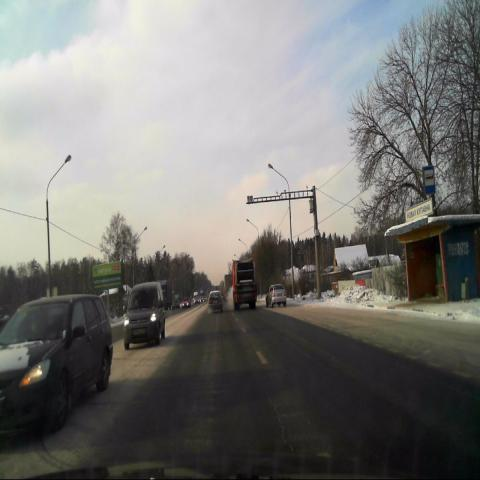5_16: (423, 165, 435, 194)
